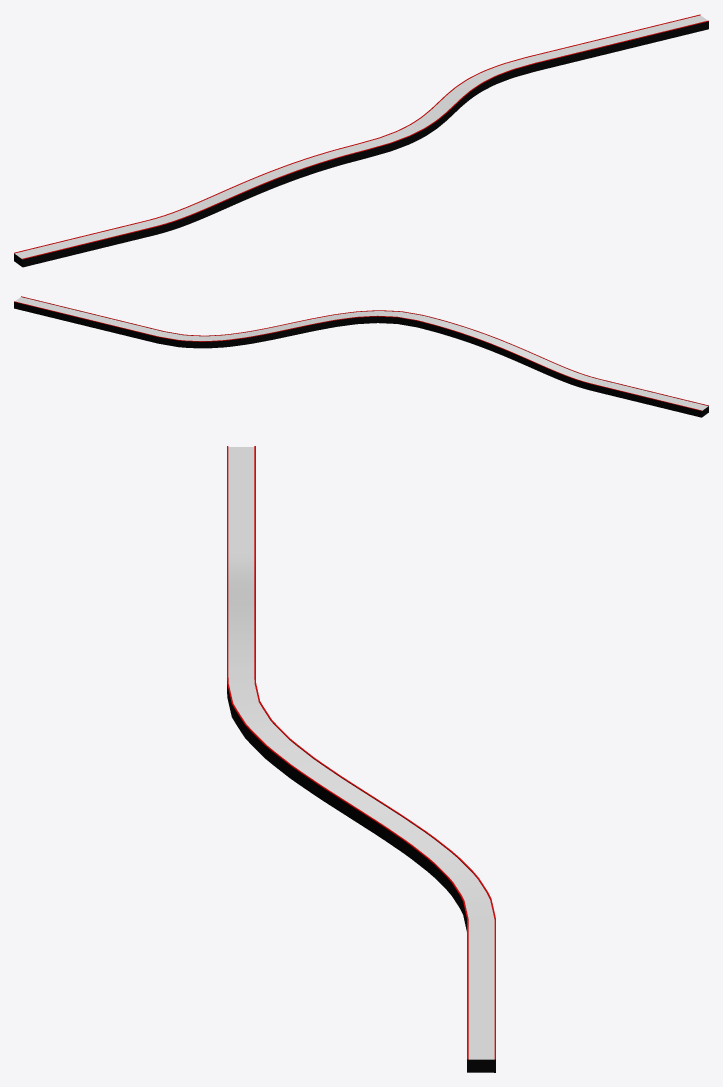
The model's file is road_2.fbx.
The picture shows the model from 3 angles, top to bottom: view 1: azimuth 30°, elevation 25°; view 2: azimuth 150°, elevation 25°; view 3: azimuth 270°, elevation 25°; orthographic projection. The views are drawn at different scales.
Parts seen in each view (by area): view 1: 1.001, 1; view 2: 1.001, 1; view 3: 1.001, 1.
Part boxes in pixels (left/top/right/bottom): 1.001: left=14, top=15, right=708, bottom=267; 1: left=14, top=14, right=708, bottom=259; 1.001: left=14, top=297, right=708, bottom=417; 1: left=14, top=296, right=708, bottom=410; 1.001: left=227, top=447, right=495, bottom=1072; 1: left=227, top=446, right=495, bottom=1059.
Bounding box in the file's own units: 6583 × 279 × 1221.
